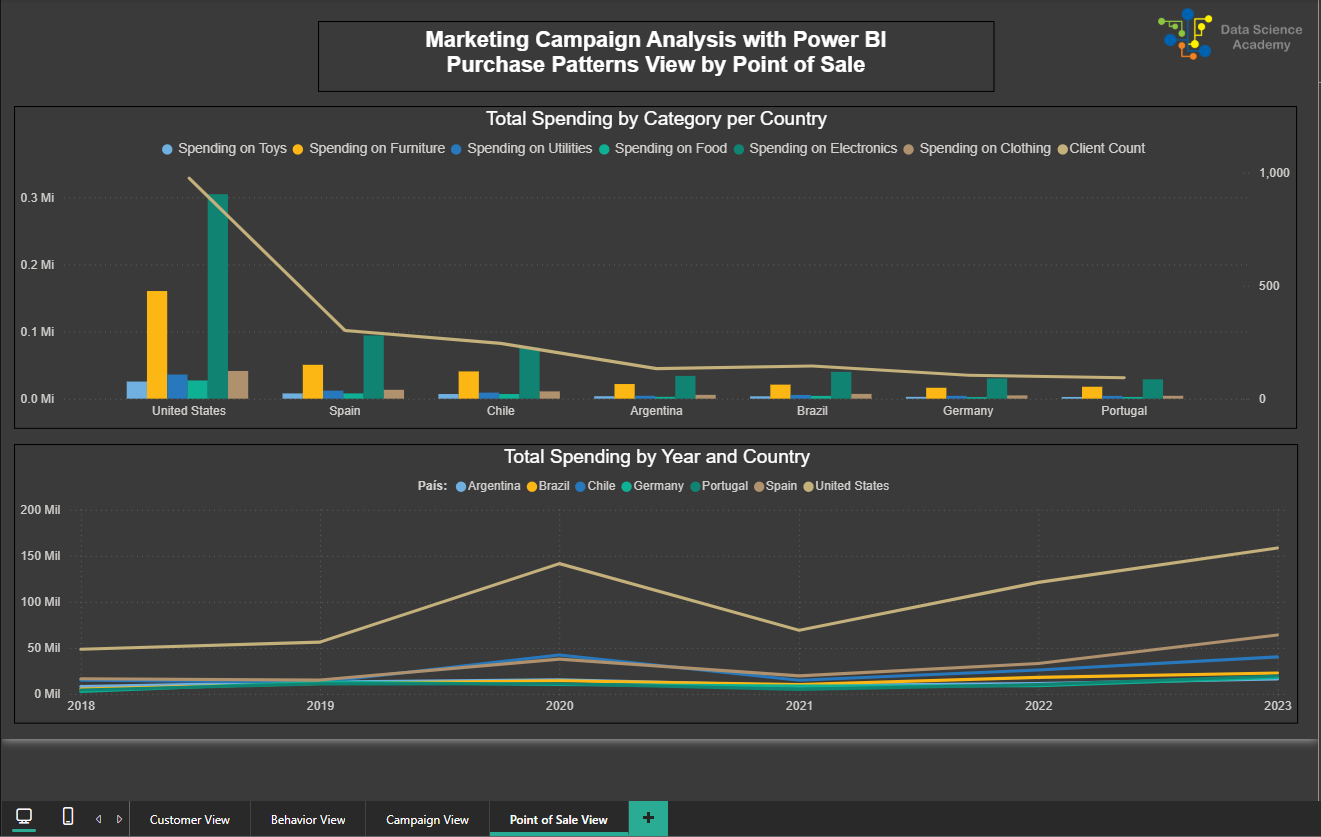

This screenshot's page, from the dashboard's own definition file:
{"tool":"powerbi","page":{"name":"Point of Sale View","canvas":[1280,720],"ordinal":3},"visuals":[{"type":"textbox","box":[307.4,21.4,657.5,69.1],"z":0},{"type":"lineClusteredColumnComboChart","title":"Total Spending by Category per Country","fields":{"Category":["Projeto 1.Pais"],"Y":["Sum(Projeto 1.Gasto com Brinquedos)","Sum(Projeto 1.Gasto com Moveis)","Sum(Projeto 1.Gasto com Utilidades)","Sum(Projeto 1. Spending on Food)","Sum(Projeto 1. Spending on Electronics)","Sum(Projeto 1. Spending on Clothing)"],"Y2":["CountNonNull(Projeto 1.ID)"]},"box":[12,104,1248,314],"z":1000},{"type":"lineChart","title":"Total Spending by Year and Country","fields":{"Y":["Projeto 1.Total Expenses"],"Series":["Projeto 1.Pais"],"Category":["Projeto 1. Registration Date.Variation.Hierarquia de datas.Ano"]},"box":[12,433,1249,272],"z":2000},{"type":"image","box":[1119.5,0,149.8,67.1],"z":3000}]}

Visuals, with their boxes on the page's 1280x720 design canvas (x1, y1, x2, y2). These are canvas units, not pixel positions in the 1321x837 screenshot, which may show the page scaled, cropped or inside an application window:
textbox: [x1=307, y1=21, x2=965, y2=90]
"Total Spending by Category per Country" lineClusteredColumnComboChart: [x1=12, y1=104, x2=1260, y2=418]
"Total Spending by Year and Country" lineChart: [x1=12, y1=433, x2=1261, y2=705]
image: [x1=1120, y1=0, x2=1269, y2=67]
